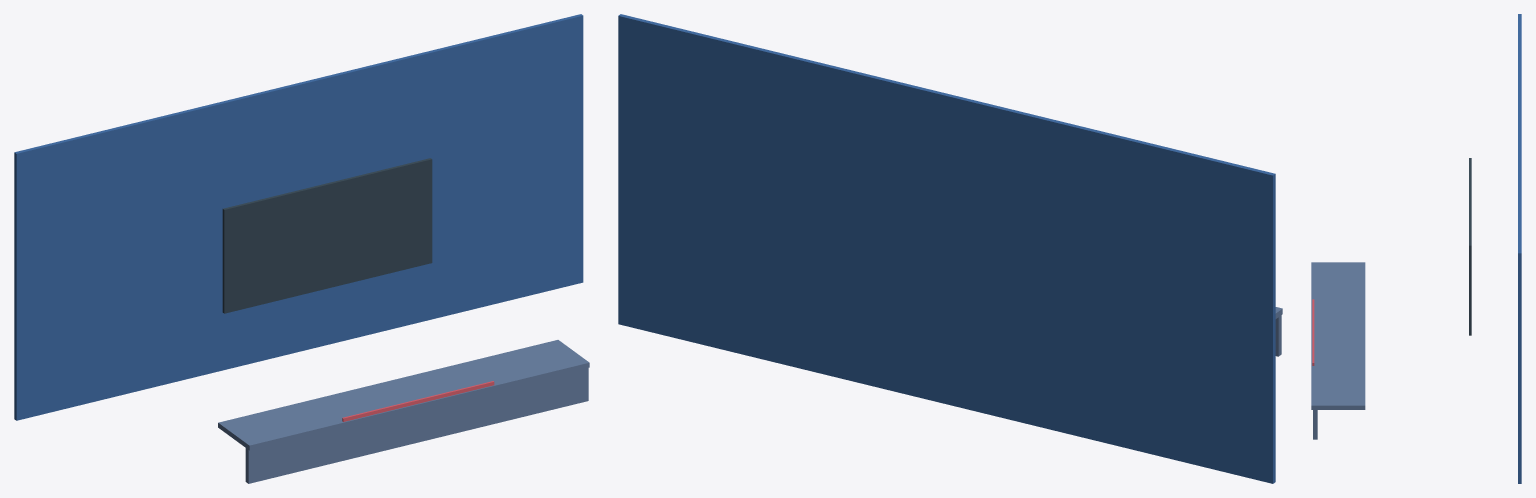
File: news.glb
3 views of the same model, side by side, from view 1: azimuth 30°, elevation 25°; view 2: azimuth 150°, elevation 25°; view 3: azimuth 270°, elevation 25° (orthographic). The views are drawn at different scales.
Visible parts, largest first — view 1: backdrop, desk, monitor, lower-third; view 2: backdrop; view 3: desk, backdrop, monitor.
Part boxes in pixels (bbox=[...]): backdrop: bbox=[14, 14, 583, 420]; desk: bbox=[218, 340, 589, 483]; monitor: bbox=[222, 158, 432, 313]; lower-third: bbox=[342, 381, 494, 421]; backdrop: bbox=[618, 14, 1275, 483]; desk: bbox=[1311, 262, 1365, 439]; backdrop: bbox=[1518, 14, 1521, 483]; monitor: bbox=[1469, 158, 1471, 335].
Bounding box in the file's own units: 12 × 5.48 × 4.47.
